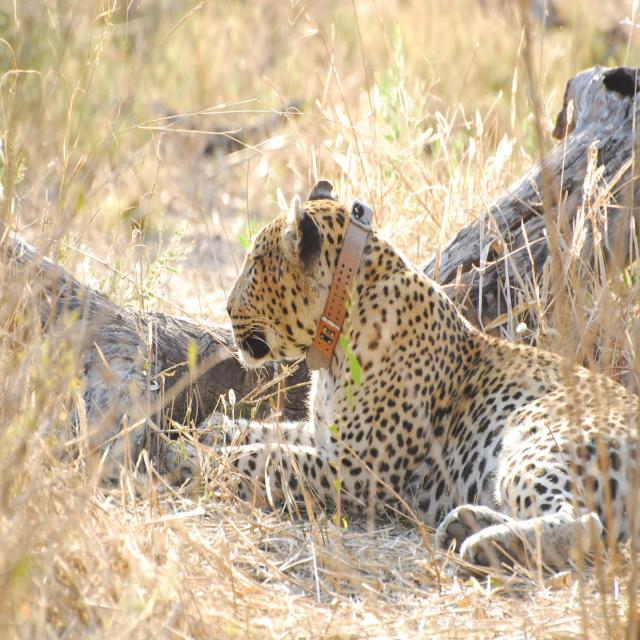Leopard: (186, 177, 626, 588)
